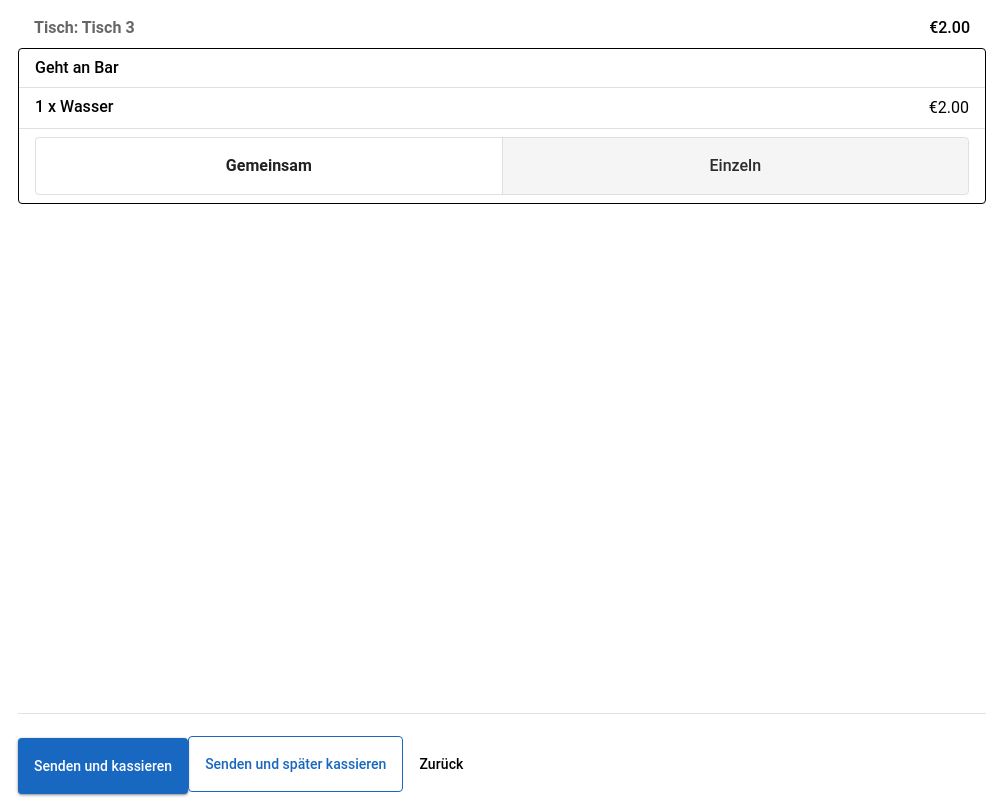
Scenario: sending the order from the review screen › keeps a refused order on the summary, with everything the server typed still there
Click the button with test id "send-and-settle-later".
click(296, 764)  # box [188,736,403,792]
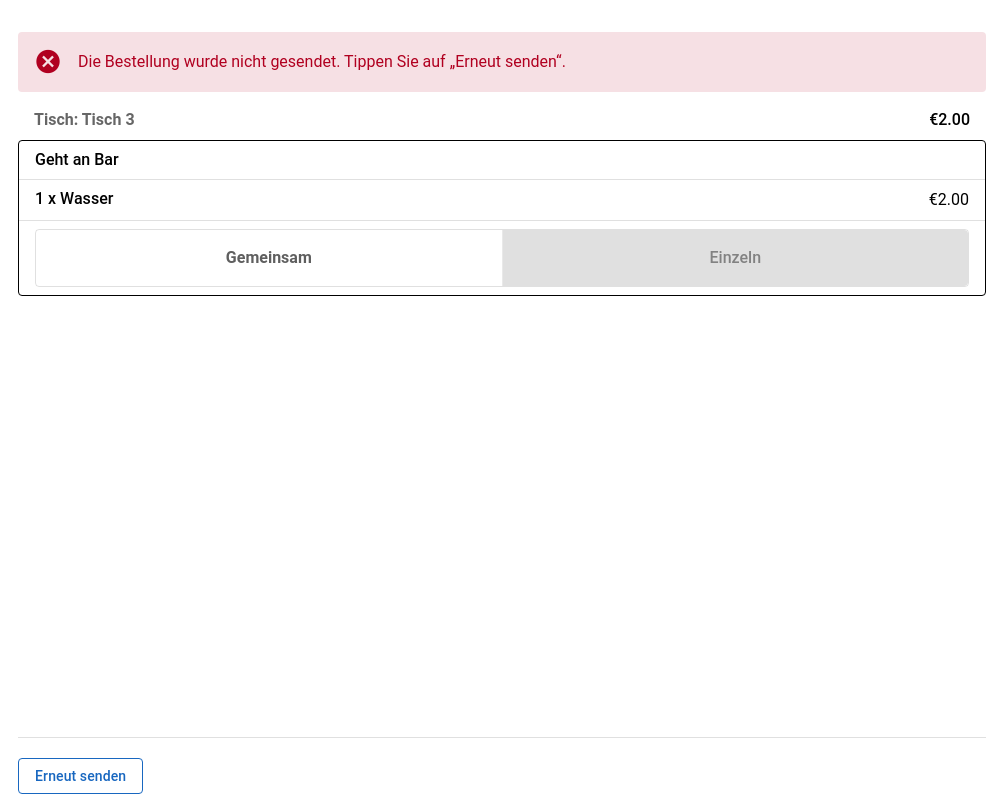
Result: the 2nd element with test id "send-failure" is shown at [18,16,986,108]
